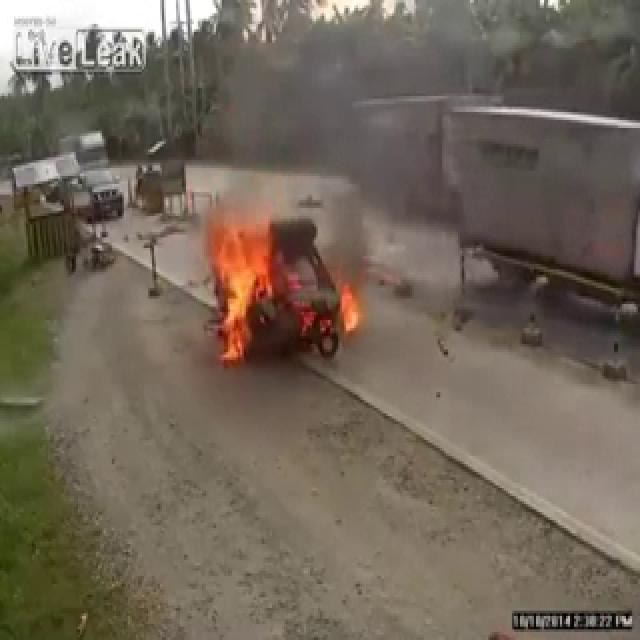explosion: (162, 0, 600, 576)
